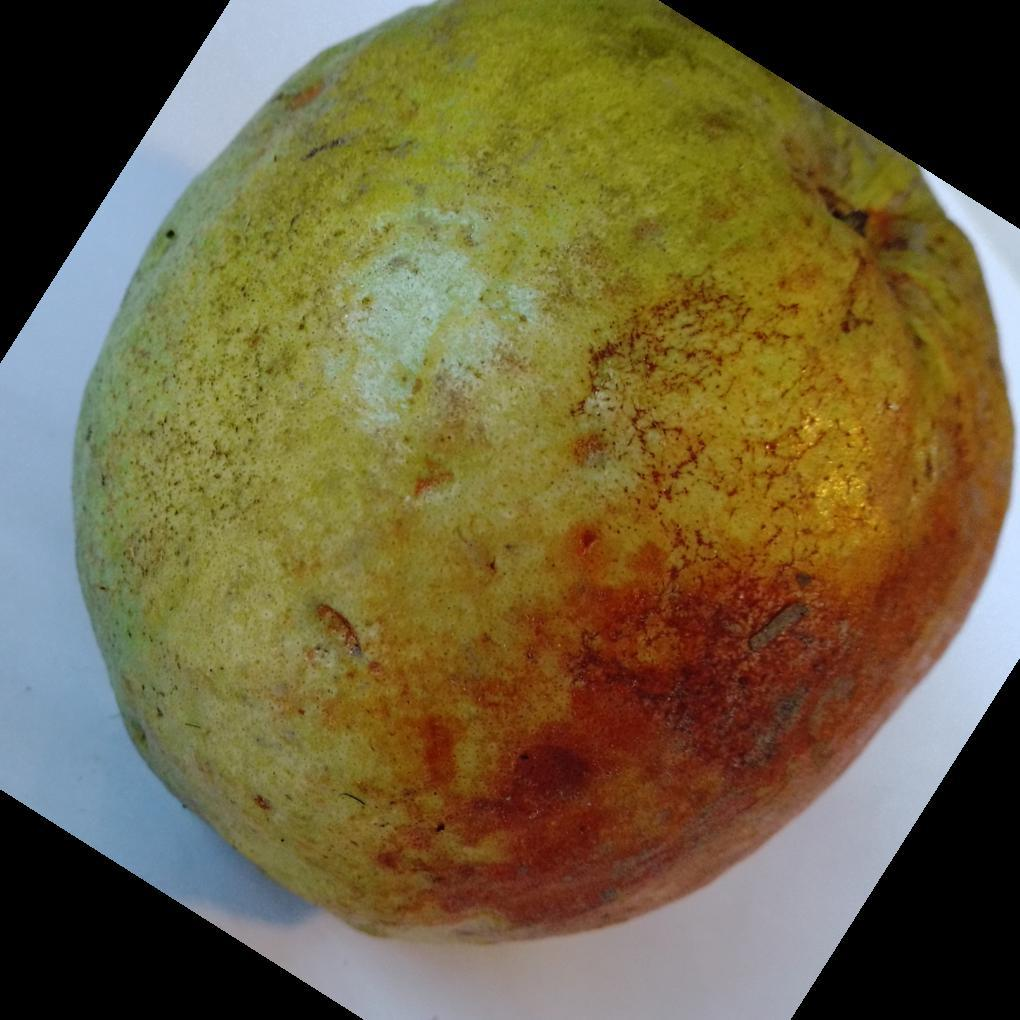FreshOrange: (69, 0, 1017, 950)
